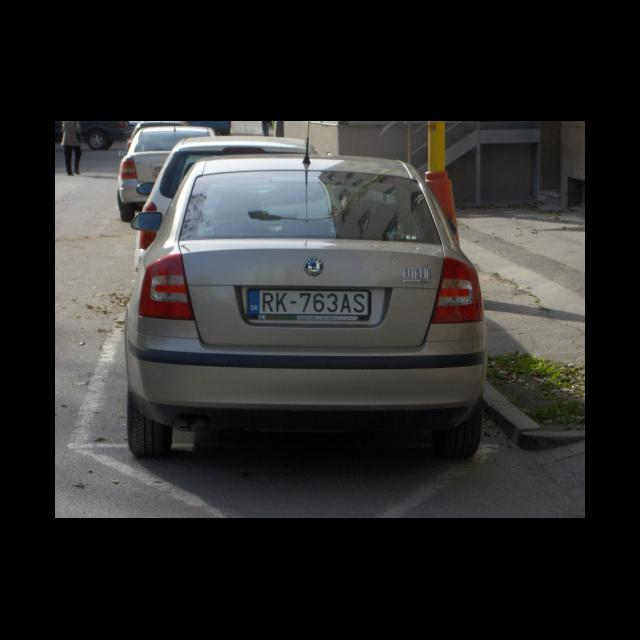Plate: (244, 286, 373, 322)
